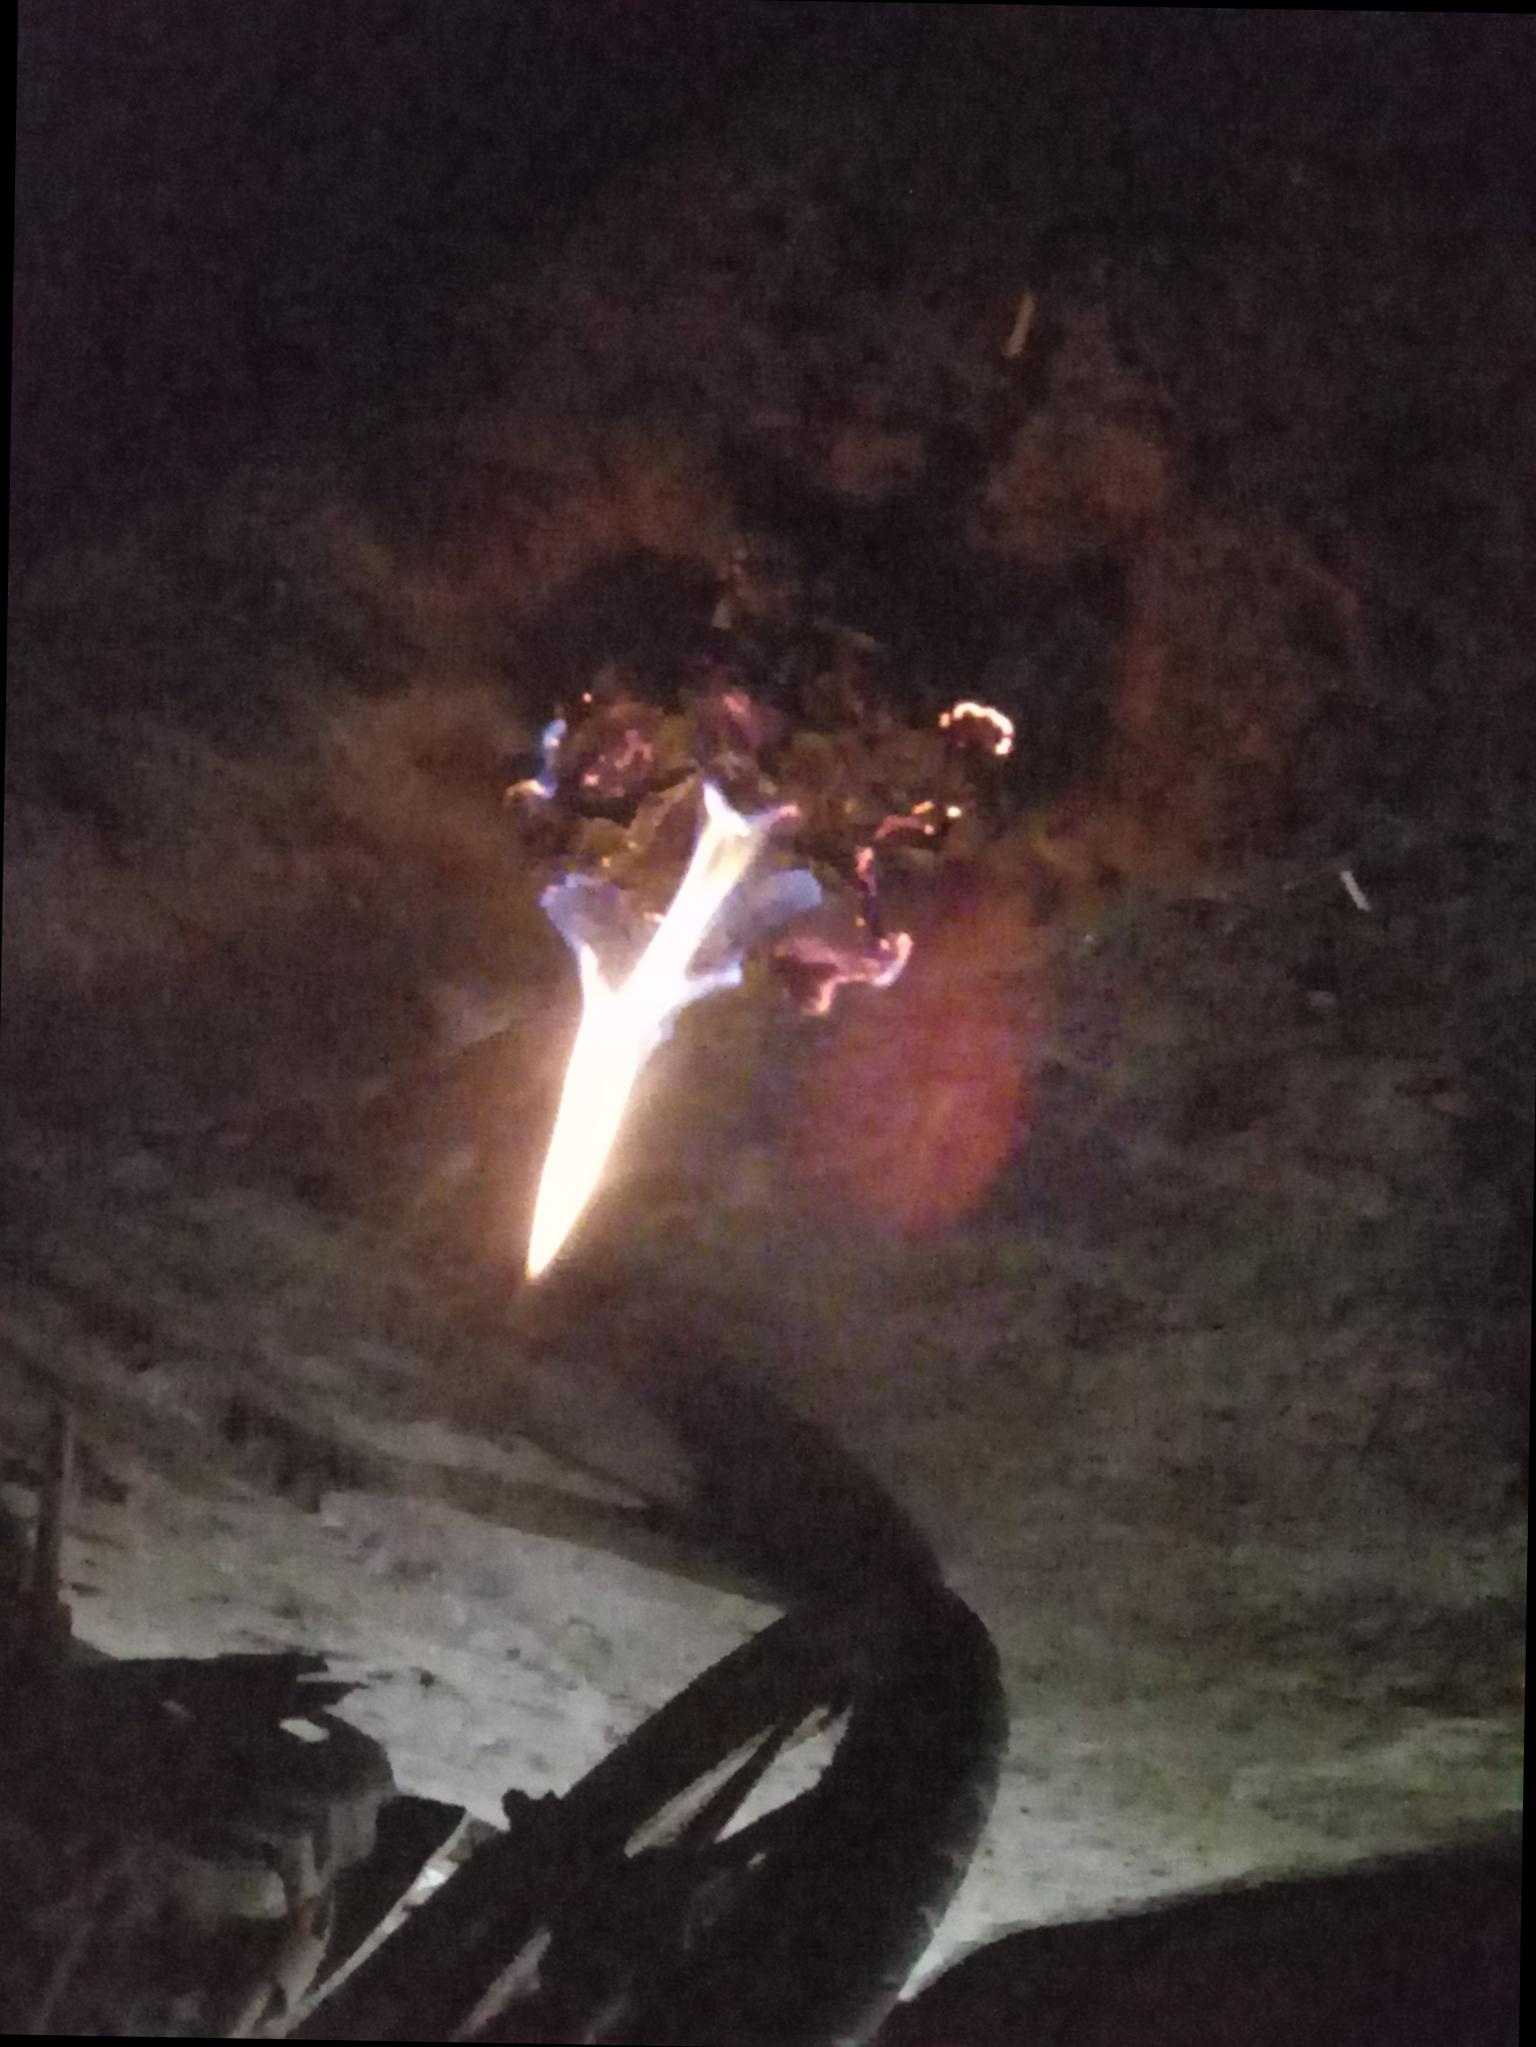Fire: (516, 768, 778, 1291)
